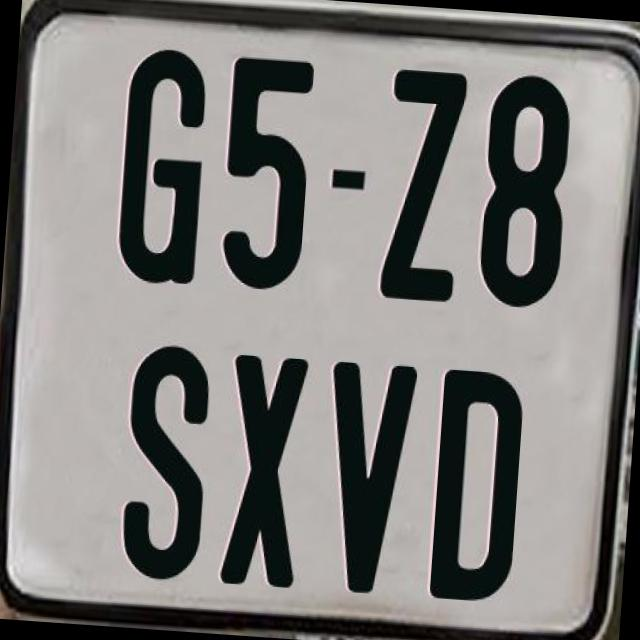5: (217, 51, 313, 291)
8: (474, 72, 572, 312)
D: (426, 363, 524, 600)
G: (113, 44, 213, 282)
S: (118, 339, 217, 579)
V: (317, 362, 425, 600)
X: (218, 350, 312, 588)
Z: (380, 65, 468, 298)
